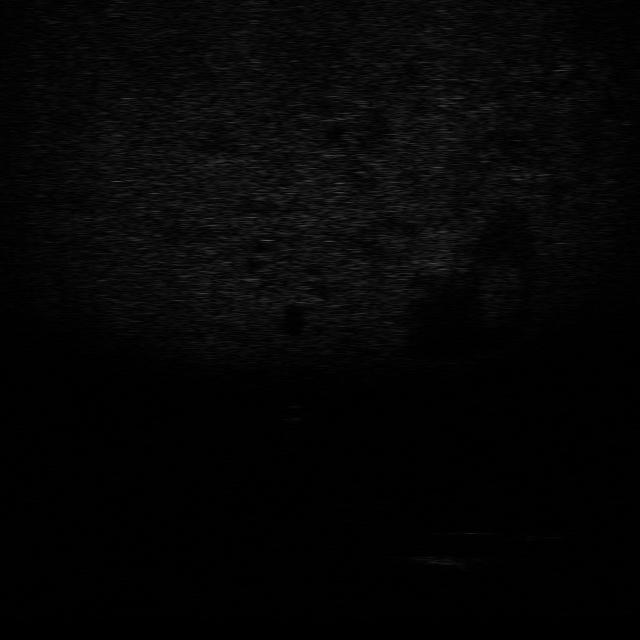ball: (275, 401, 313, 424)
metal bucket: (404, 549, 490, 573)
tyre: (478, 522, 562, 546)
